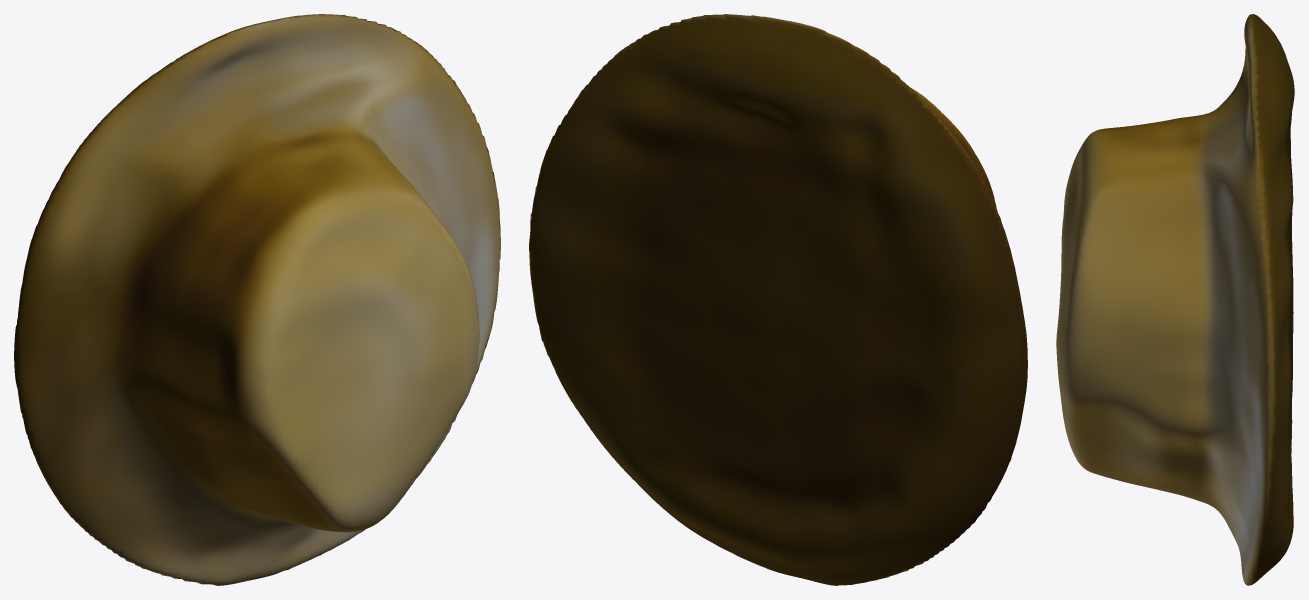
Rendered from hat.glb.
3 renders of one model, left to right at view 1: azimuth 30°, elevation 25°; view 2: azimuth 150°, elevation 25°; view 3: azimuth 270°, elevation 25°, orthographic. The views are drawn at different scales.
Size of the model in its own units: 0.9269 by 0.9977 by 0.4122.
